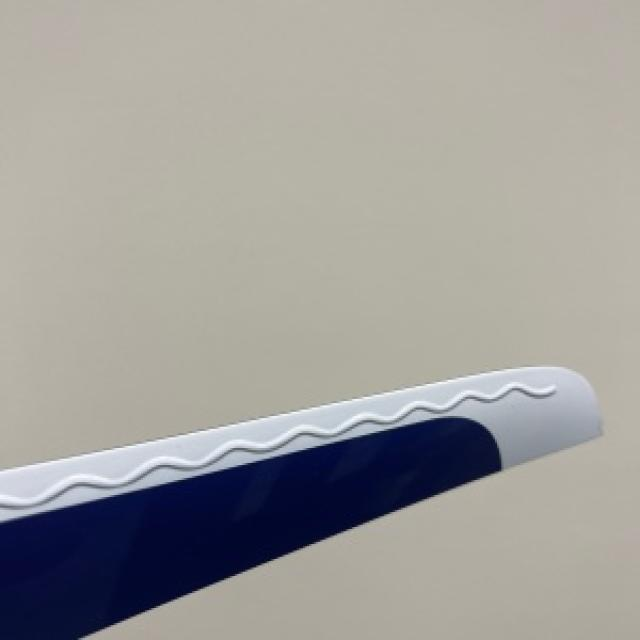healthy: (0, 365, 599, 638)
